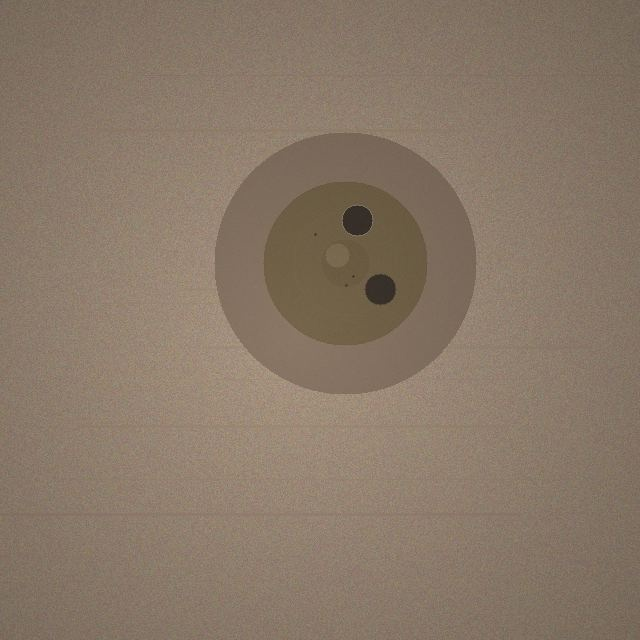shrinkage: (214, 132, 476, 394)
